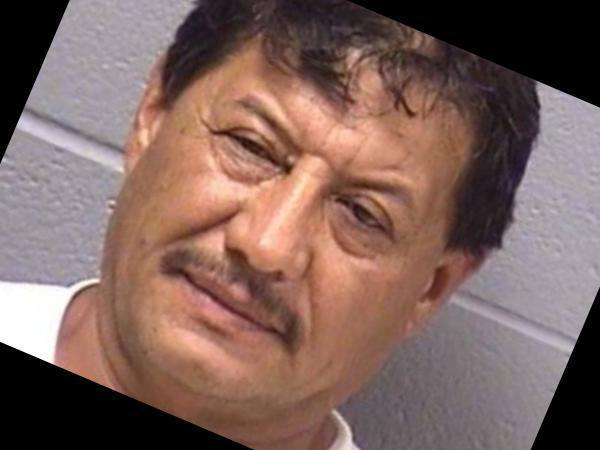Drunk: (136, 18, 421, 391)
